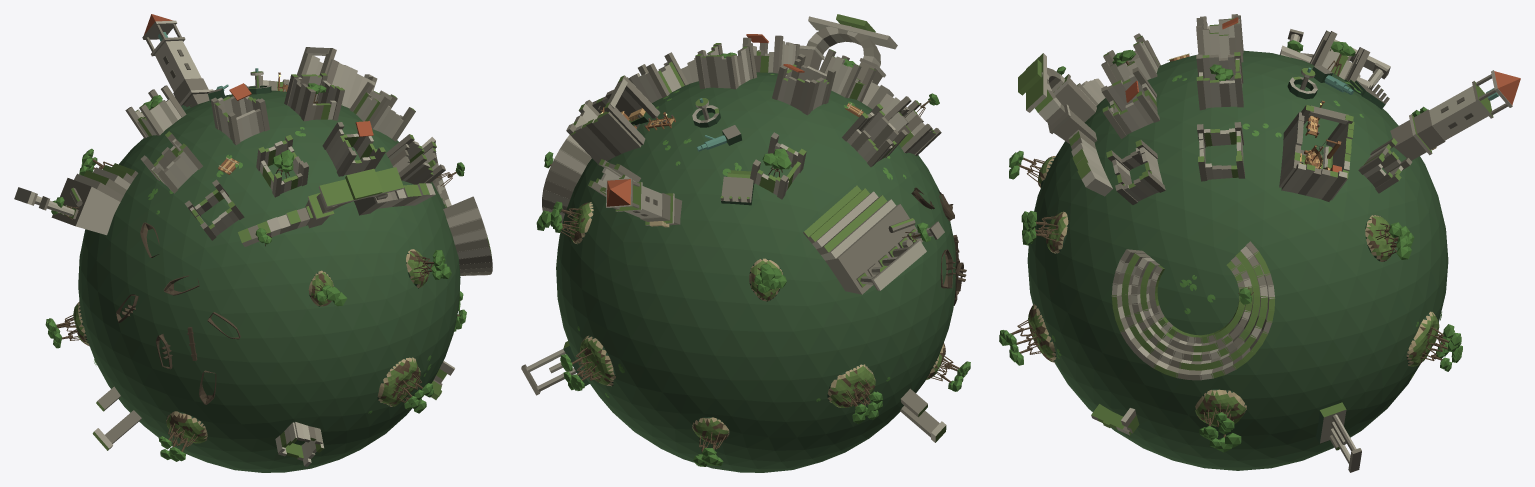
The model's file is w_003-sunken-ruins.glb.
3 renders of one model, left to right at view 1: azimuth 30°, elevation 25°; view 2: azimuth 150°, elevation 25°; view 3: azimuth 270°, elevation 25°, orthographic. The views are drawn at different scales.
Parts seen in each view (by area): view 1: Water_Sphere, Island_temple-steps, Island_bell-tower, Island_canal-house-6, Gate_Arch, Island_canal-house-3, Island_canal-house-7, Island_sigrid-warehouse, Island_cistern-1, Island_canal-house-8, Island_canal-house-4, Island_canal-house-5 (+12 smaller); view 2: Water_Sphere, Island_temple-steps, Island_sigrid-warehouse, Island_bell-tower, Island_canal-house-6, Gate_Arch, Island_canal-house-7, Island_canal-house-5, Island_cistern-5, Island_canal-house-1, Island_canal-house-8, Island_canal-house-2 (+15 smaller); view 3: Water_Sphere, Island_bell-tower, Island_sigrid-warehouse, Island_cistern-1, Island_cistern-2, Island_canal-house-3, Island_cistern-3, Island_gate-east, Island_cistern-4, Island_canal-house-7, Island_canal-house-4, Gate_Arch (+16 smaller).
Part boxes in pixels (bbox=[...]): Water_Sphere: bbox=[78, 90, 460, 472]; Island_temple-steps: bbox=[14, 163, 138, 235]; Island_bell-tower: bbox=[142, 14, 213, 107]; Island_canal-house-6: bbox=[210, 83, 269, 145]; Gate_Arch: bbox=[316, 167, 403, 213]; Island_canal-house-3: bbox=[322, 121, 385, 176]; Island_canal-house-7: bbox=[284, 73, 344, 121]; Island_sigrid-warehouse: bbox=[297, 47, 377, 108]; Island_cistern-1: bbox=[443, 196, 491, 259]; Island_canal-house-8: bbox=[349, 82, 415, 141]; Island_canal-house-4: bbox=[386, 134, 445, 184]; Island_canal-house-5: bbox=[140, 131, 202, 193]; Water_Sphere: bbox=[556, 72, 956, 472]; Island_temple-steps: bbox=[803, 185, 944, 294]; Island_sigrid-warehouse: bbox=[566, 75, 659, 165]; Island_bell-tower: bbox=[606, 178, 682, 226]; Island_canal-house-6: bbox=[772, 54, 835, 115]; Gate_Arch: bbox=[806, 14, 897, 67]; Island_canal-house-7: bbox=[695, 43, 756, 89]; Island_canal-house-5: bbox=[842, 103, 907, 167]; Island_cistern-5: bbox=[543, 134, 591, 199]; Island_canal-house-1: bbox=[884, 96, 941, 155]; Island_canal-house-8: bbox=[627, 52, 688, 103]; Island_canal-house-2: bbox=[819, 49, 876, 102]; Water_Sphere: bbox=[1027, 50, 1448, 470]; Island_bell-tower: bbox=[1390, 70, 1520, 160]; Island_sigrid-warehouse: bbox=[1279, 105, 1354, 201]; Island_cistern-1: bbox=[1111, 249, 1164, 320]; Island_cistern-2: bbox=[1115, 305, 1183, 373]; Island_canal-house-3: bbox=[1101, 67, 1159, 138]; Island_cistern-3: bbox=[1164, 330, 1236, 380]; Island_gate-east: bbox=[1047, 104, 1112, 196]; Island_cistern-4: bbox=[1219, 300, 1274, 369]; Island_canal-house-7: bbox=[1196, 52, 1243, 110]; Island_canal-house-4: bbox=[1106, 139, 1165, 204]; Gate_Arch: bbox=[1018, 53, 1065, 125].
Size of the model in its own units: 12.08 by 10.91 by 12.4.
